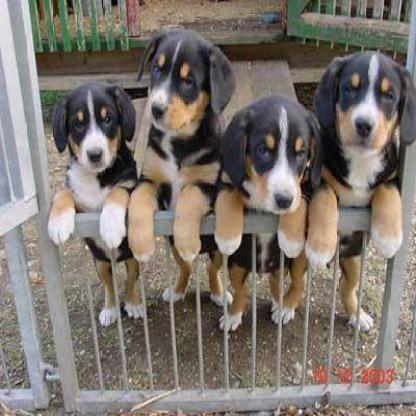EntleBucher: (302, 47, 414, 327), (127, 25, 236, 263), (218, 93, 318, 334), (47, 78, 141, 324)
